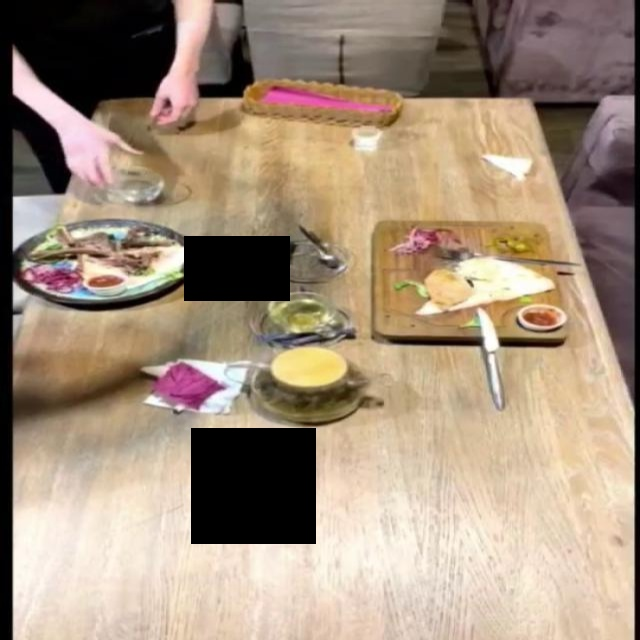meat: (367, 214, 562, 353), (0, 203, 235, 311)
tea: (216, 342, 410, 430)
